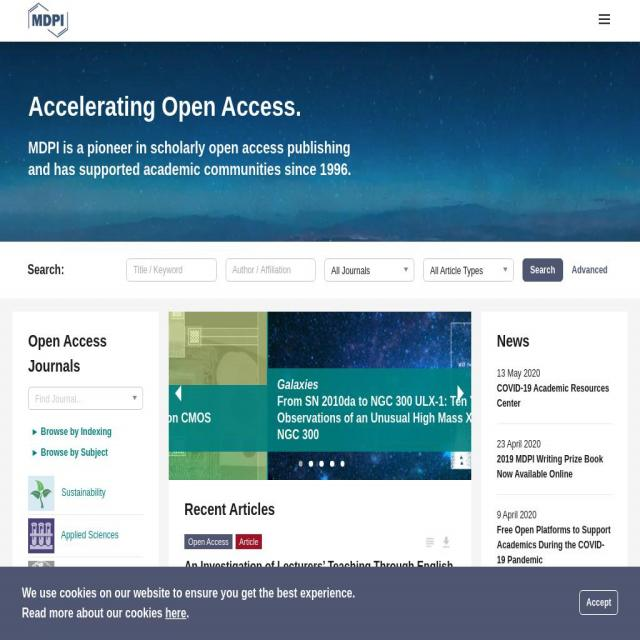filter: (14, 320, 156, 570), (318, 254, 512, 284)
options: (588, 8, 622, 34)
search: (8, 248, 632, 290)
